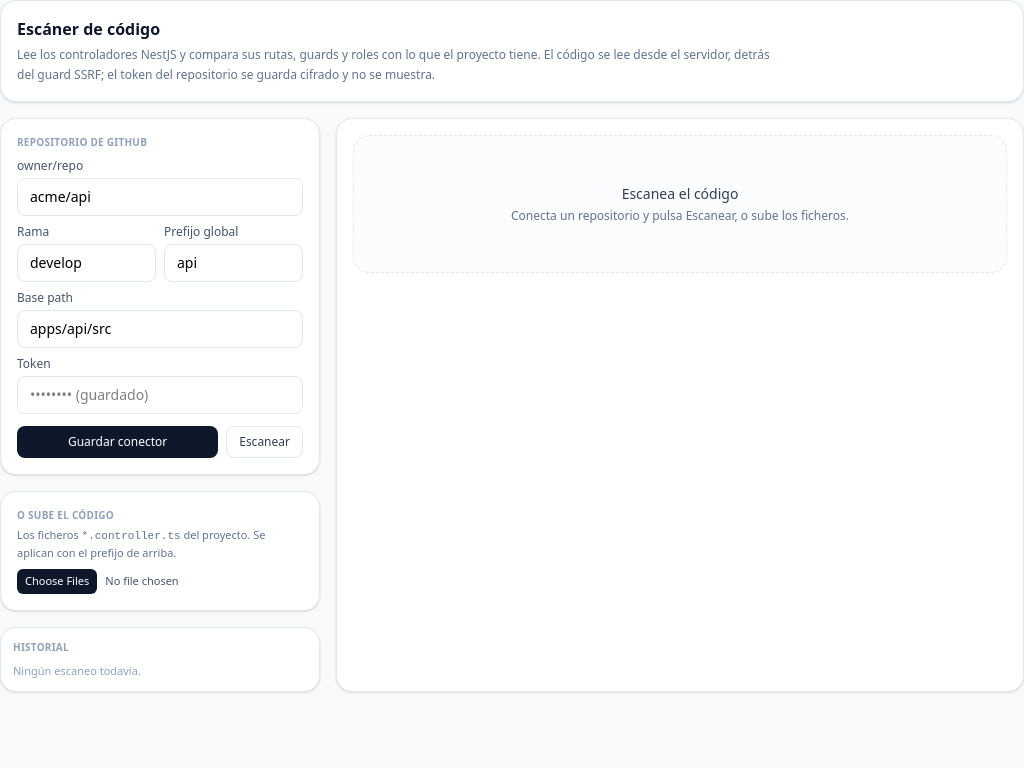
Test: el escáner de código › escanear desde GitHub elige el escaneo nuevo y enseña su diff y su impacto
Check: the field labelled "owner/repo" holds "acme/api", box [17,178,303,216]
Step 1. Click the button "Escanear" → (265,442), box [226,426,303,458]
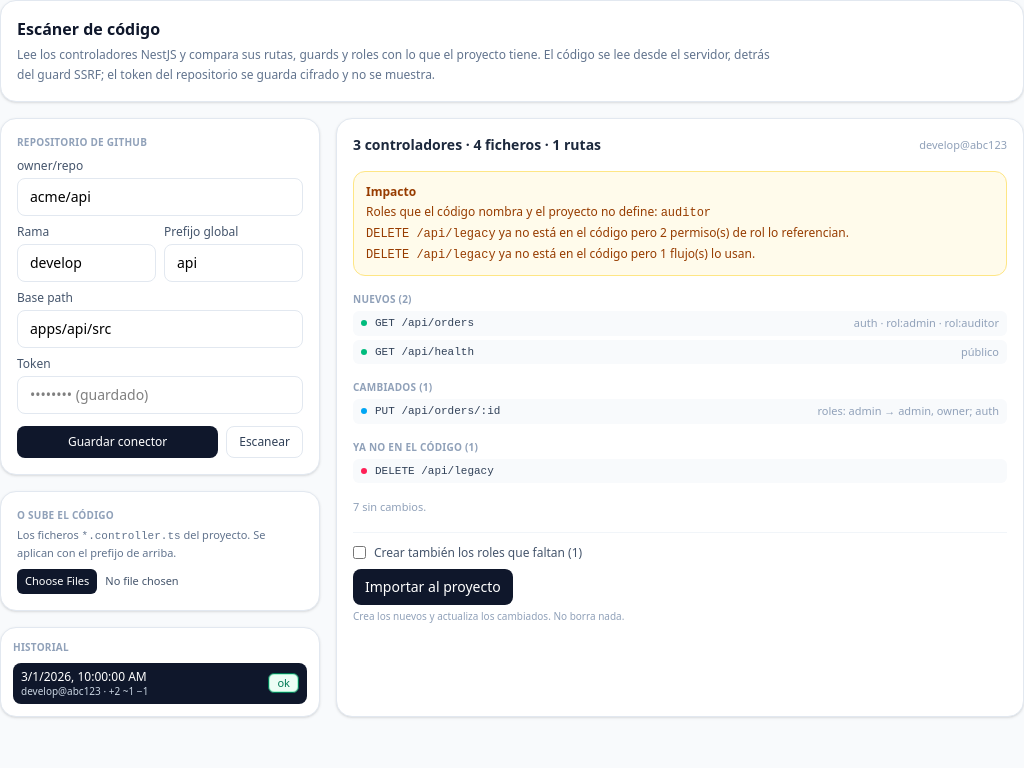
Check: the text "3 controladores · 4 ficheros · 1 rutas" is shown, box [353,135,601,155]
Check: the text "develop@abc123 · +2 ~1 −1" is shown, box [21,684,148,698]
Check: the text "Impacto" is shown, box [366,183,416,200]
